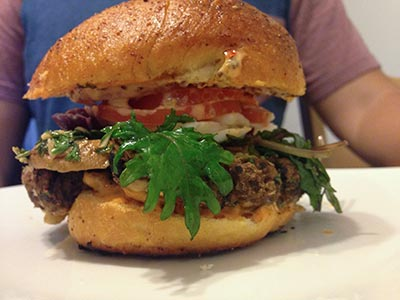hamburger_buns: (38, 14, 325, 253)
